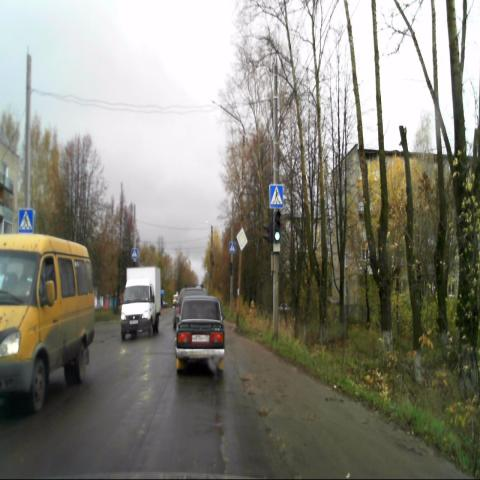2_1: (236, 226, 248, 251)
5_19_1: (18, 207, 34, 235), (269, 183, 283, 208), (131, 245, 138, 258), (228, 242, 236, 253)
